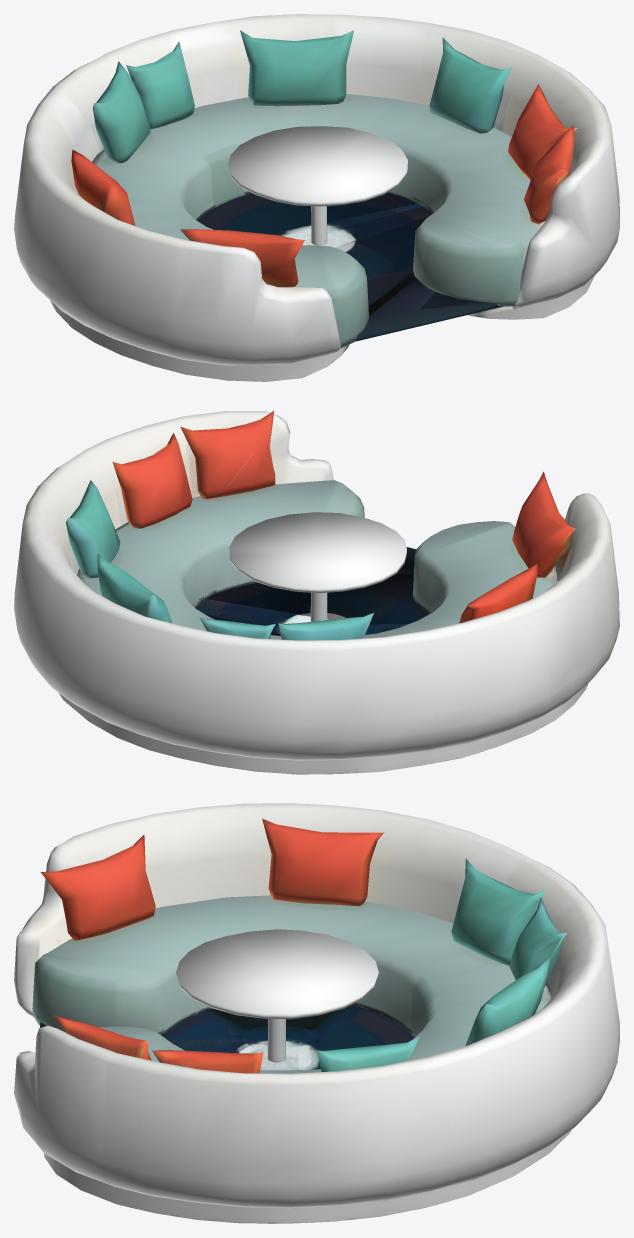
Rendered from lounge.glb.
3 renders of one model, top to bottom at view 1: azimuth 30°, elevation 25°; view 2: azimuth 150°, elevation 25°; view 3: azimuth 270°, elevation 25°, orthographic. The views are drawn at different scales.
Size of the model in its own units: 1 by 0.2637 by 0.8984.
Materials: 1 (1 with a texture image).
